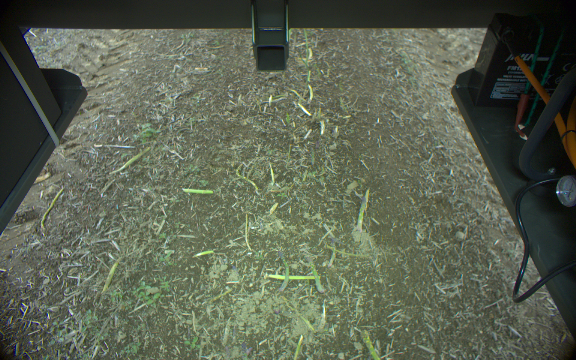aspa: (110, 144, 151, 176), (271, 249, 295, 293), (303, 256, 328, 296), (101, 255, 122, 294), (265, 269, 324, 282), (354, 185, 369, 234), (358, 329, 380, 360), (181, 185, 214, 195)
